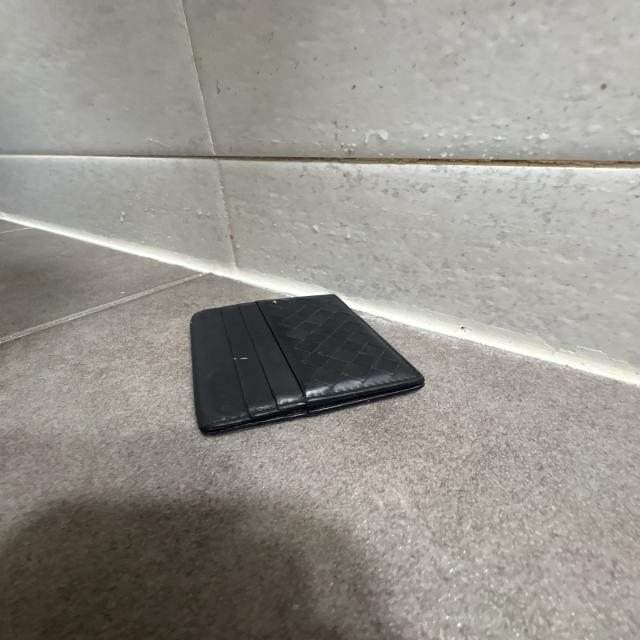wallet: (188, 294, 424, 439)
